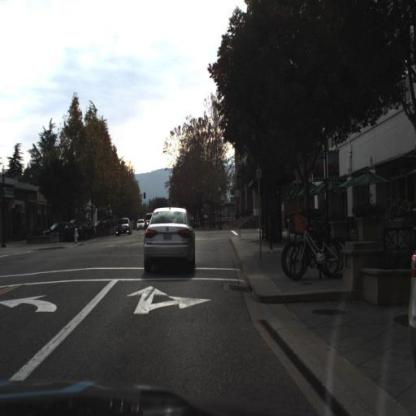car: (145, 206, 198, 273), (44, 221, 84, 244), (114, 213, 134, 237), (115, 217, 133, 239), (135, 217, 148, 236), (146, 213, 154, 233), (136, 219, 146, 231)
pedestrian: (251, 209, 256, 230)
